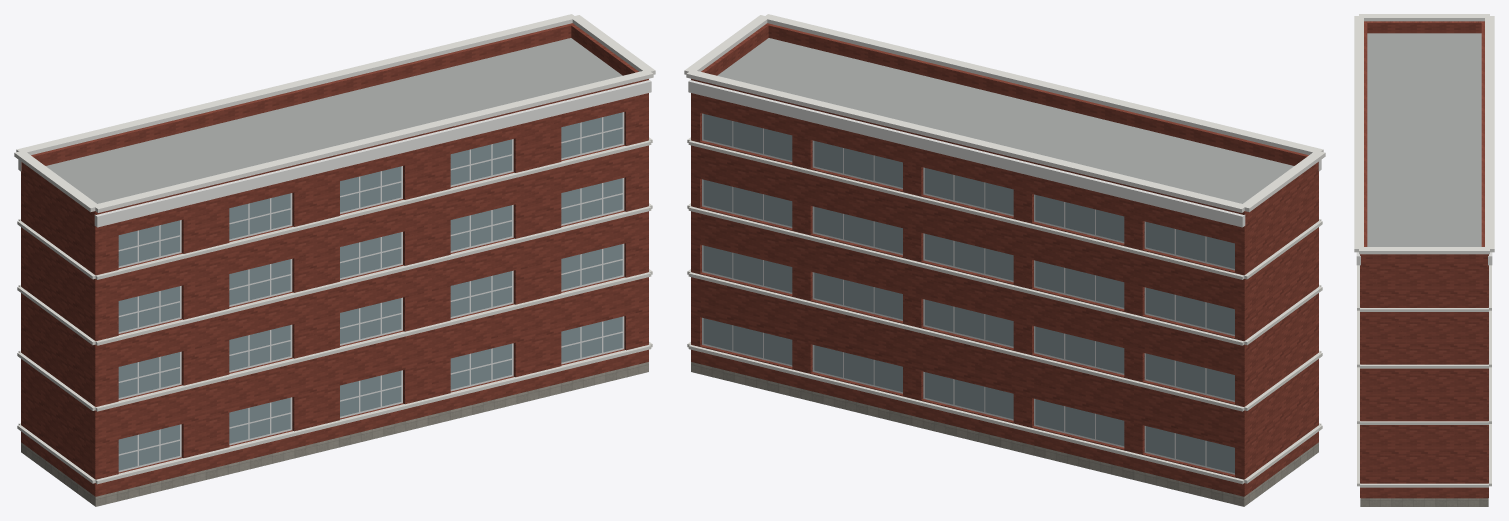
The picture shows the model from 3 angles, left to right: view 1: azimuth 30°, elevation 25°; view 2: azimuth 150°, elevation 25°; view 3: azimuth 270°, elevation 25°; orthographic projection. The views are drawn at different scales.
Visible parts, largest first — view 1: link-wing__brick, link-wing__glass, link-wing__roof, link-wing__sillband, link-wing__coping, link-wing__frame, link-wing__white, link-wing__stone; view 2: link-wing__brick, link-wing__sideglass, link-wing__roof, link-wing__sillband, link-wing__coping, link-wing__white, link-wing__frame, link-wing__stone; view 3: link-wing__brick, link-wing__roof, link-wing__coping, link-wing__sillband, link-wing__stone.
Boxes of the visible parts, left/top/right/bottom form: link-wing__brick: left=21, top=23, right=648, bottom=496; link-wing__glass: left=118, top=112, right=622, bottom=470; link-wing__roof: left=46, top=38, right=622, bottom=203; link-wing__sillband: left=17, top=137, right=652, bottom=484; link-wing__coping: left=14, top=14, right=655, bottom=212; link-wing__frame: left=118, top=112, right=624, bottom=472; link-wing__white: left=18, top=80, right=651, bottom=227; link-wing__stone: left=21, top=362, right=648, bottom=506; link-wing__brick: left=691, top=23, right=1318, bottom=496; link-wing__sideglass: left=703, top=114, right=1234, bottom=473; link-wing__roof: left=717, top=38, right=1293, bottom=203; link-wing__sillband: left=687, top=137, right=1322, bottom=484; link-wing__coping: left=684, top=14, right=1325, bottom=212; link-wing__white: left=688, top=80, right=1321, bottom=227; link-wing__frame: left=702, top=113, right=1234, bottom=474; link-wing__stone: left=691, top=362, right=1318, bottom=506; link-wing__brick: left=1360, top=21, right=1488, bottom=498; link-wing__roof: left=1367, top=33, right=1481, bottom=246; link-wing__coping: left=1354, top=14, right=1494, bottom=254; link-wing__sillband: left=1357, top=265, right=1491, bottom=487; link-wing__stone: left=1360, top=498, right=1488, bottom=506.
Bounding box in the file's own units: 30.54 × 15.52 × 7.64.
Materials: 10 (2 with a texture image).
